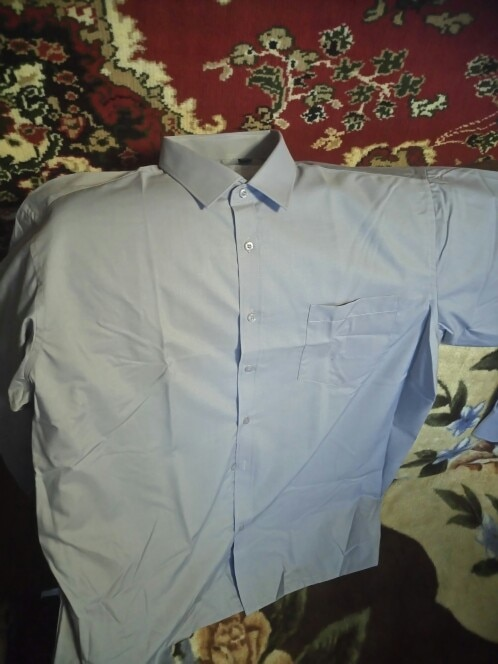shirts: (44, 123, 498, 628)
